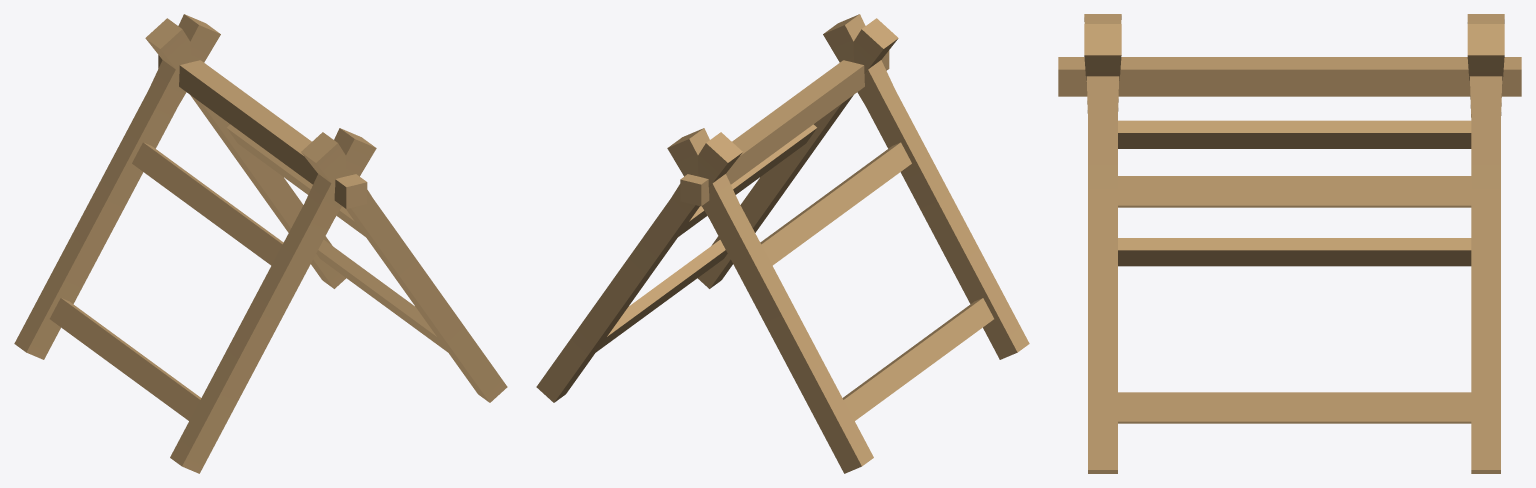
Rendered from camp-lod0.glb.
3 views of the same model, side by side, from view 1: azimuth 30°, elevation 25°; view 2: azimuth 150°, elevation 25°; view 3: azimuth 270°, elevation 25° (orthographic). The views are drawn at different scales.
Visible parts, largest first — view 1: tent; view 2: tent; view 3: tent.
Part boxes in pixels (<box>): tent: <box>14,14,507,473</box>; tent: <box>536,14,1029,473</box>; tent: <box>1058,14,1521,473</box>.
Bounding box in the file's own units: 0.5608 × 0.4914 × 0.561.
